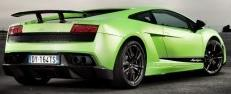back_view: (4, 20, 107, 78)
backlight: (69, 23, 103, 34)
side_glass: (128, 6, 200, 35)
